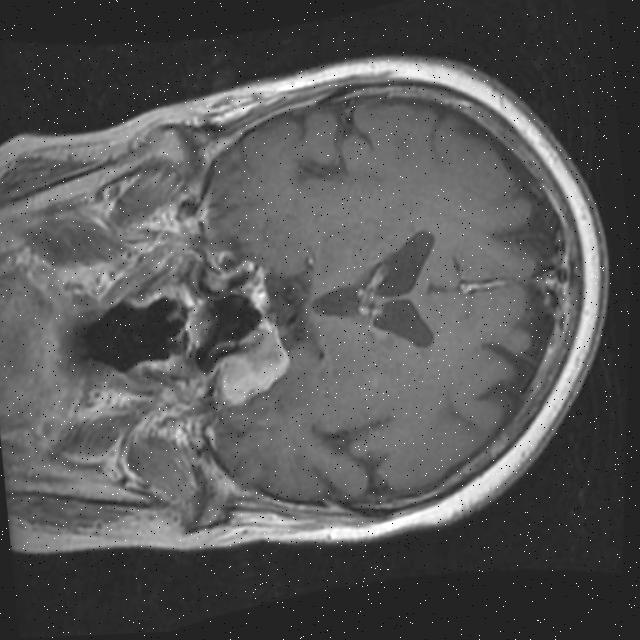Meningioma: (210, 320, 297, 411)
